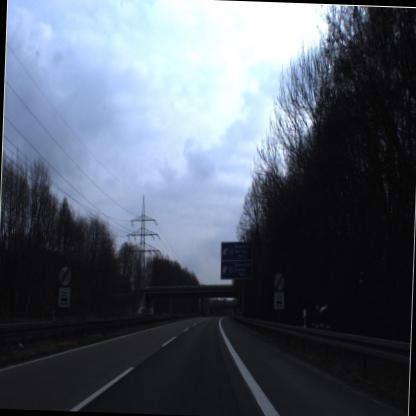other: (53, 258, 74, 292), (271, 267, 287, 294)
